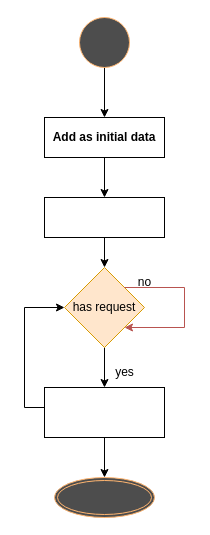
This 210x535 diagram has some shape labels left out. The shapes that lost their labels are listed below. From the top down, each one's centre as x and y in pixels, then its label:
At (x=104, y=217): "Create Data map".
At (x=104, y=412): "Insert/Append data".
